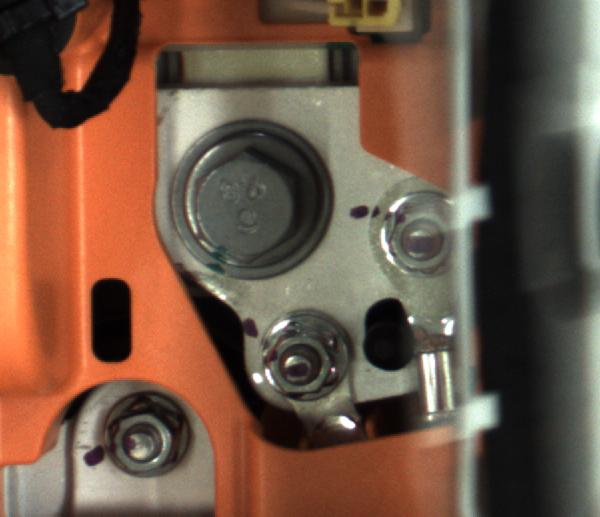nut_b: (156, 112, 327, 280)
